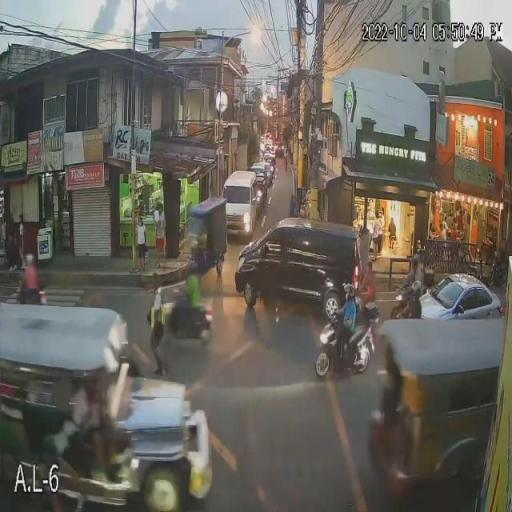helmet: (180, 260, 203, 278), (408, 280, 424, 299), (342, 282, 357, 302), (409, 253, 421, 270), (24, 252, 35, 266)
motorcycle: (314, 319, 376, 379), (164, 299, 215, 346), (12, 279, 52, 303), (390, 285, 406, 317)
rider: (336, 301, 358, 349), (183, 278, 203, 324), (404, 300, 428, 320), (22, 270, 38, 294), (404, 268, 425, 284)
